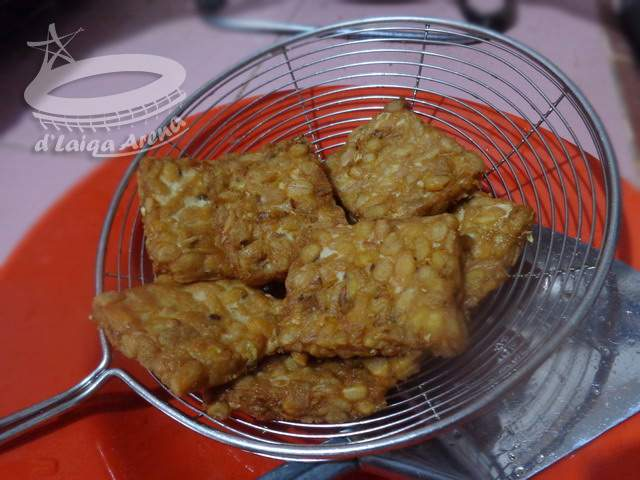Tempe: (255, 214, 449, 362), (162, 134, 313, 279), (333, 93, 454, 234), (132, 264, 268, 385)
